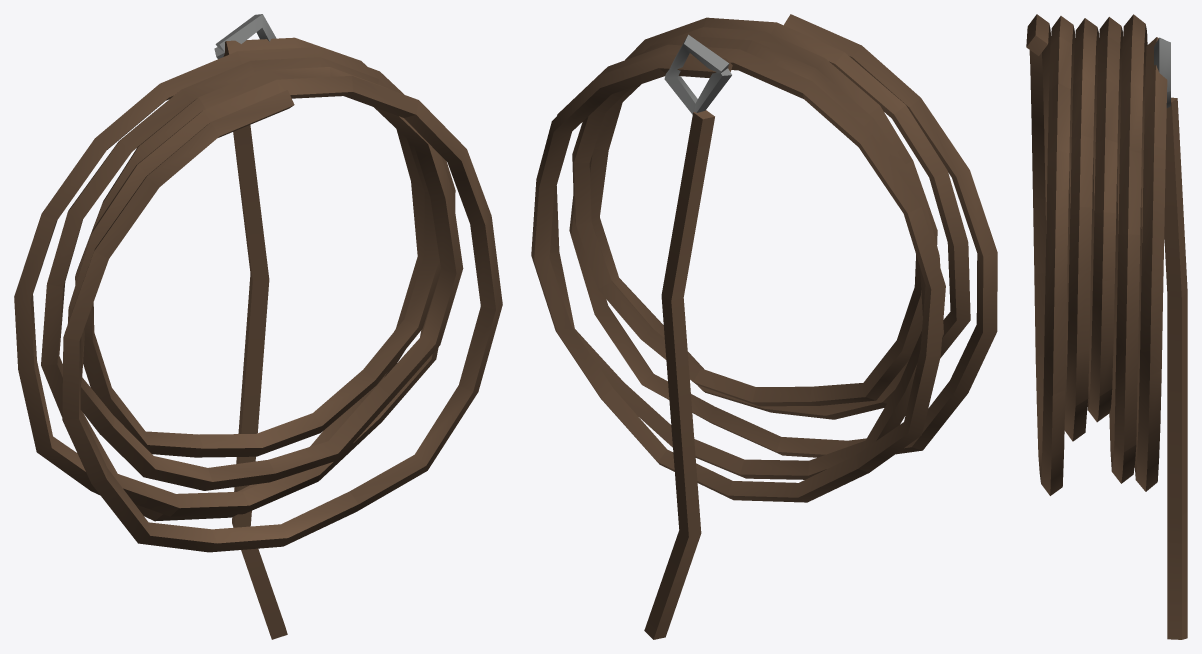
Rendered from lazo.glb.
3 renders of one model, left to right at view 1: azimuth 30°, elevation 25°; view 2: azimuth 150°, elevation 25°; view 3: azimuth 270°, elevation 25°, orthographic. The views are drawn at different scales.
Visible parts, largest first — view 1: Lazo; view 2: Lazo; view 3: Lazo.
Part boxes in pixels (x1,y1,x2,y2): Lazo: (14, 14, 502, 639); Lazo: (531, 14, 997, 639); Lazo: (1026, 14, 1187, 639).
Size of the model in its own units: 0.4785 by 0.6512 by 0.161.
